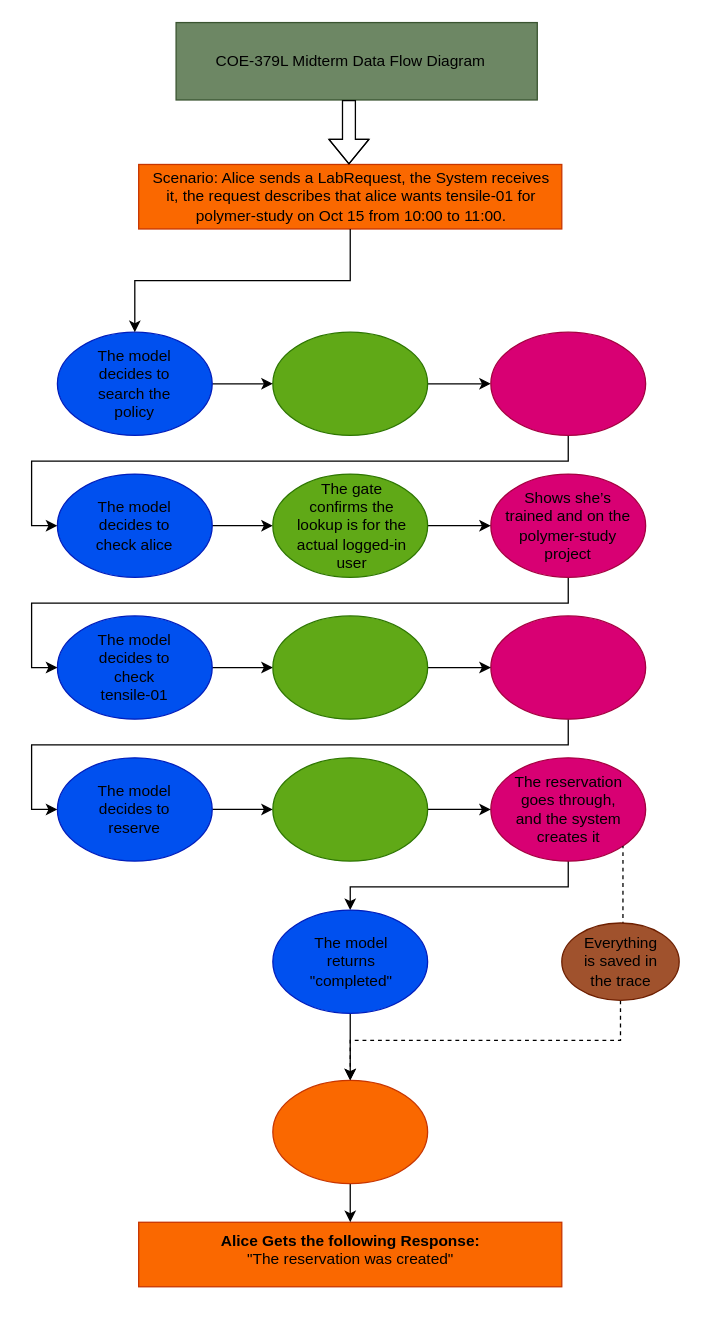
The diagram is 702 pixels wide and 1325 high, and some of its shapes have lost their labels. Each missing label, with the box of its shape:
Finds the rule saying the tester requires lab safety training: (490, 331, 646, 435)
Shows the machine is free at that time and its calibration is current: (490, 615, 646, 719)
The action gate checks if this is allowed: (272, 331, 428, 435)
The final answer is checked against the trace: (272, 1079, 428, 1184)
The gate confirms every required check was done and passed: (272, 757, 428, 861)
The gate confirms it’s the same machine and time as the request: (272, 615, 428, 719)
